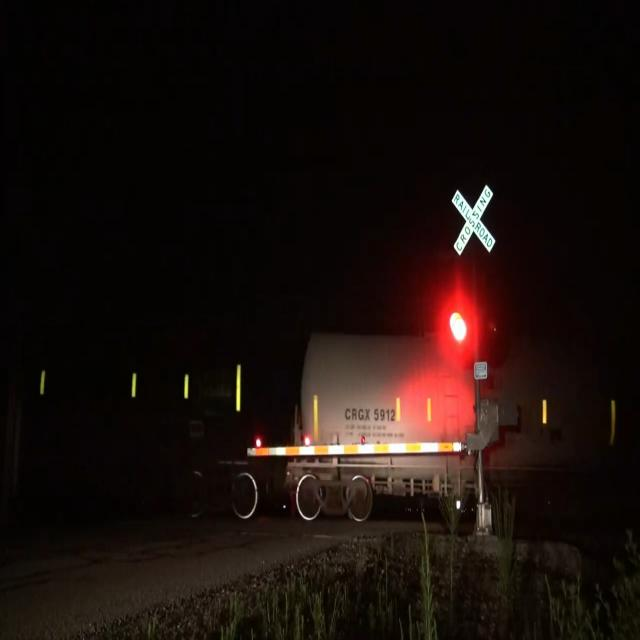tank: (278, 310, 640, 542)
